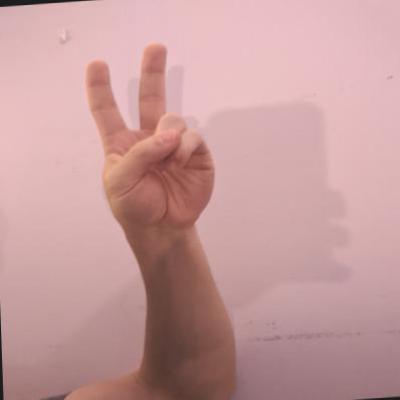hand: (81, 38, 220, 236)
